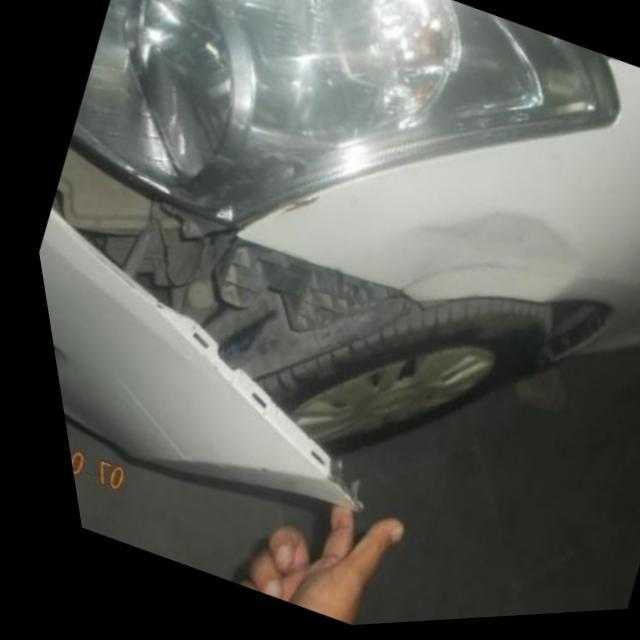crack: (270, 197, 320, 220)
dent: (385, 212, 570, 307)
dislocated part: (44, 137, 419, 510)
